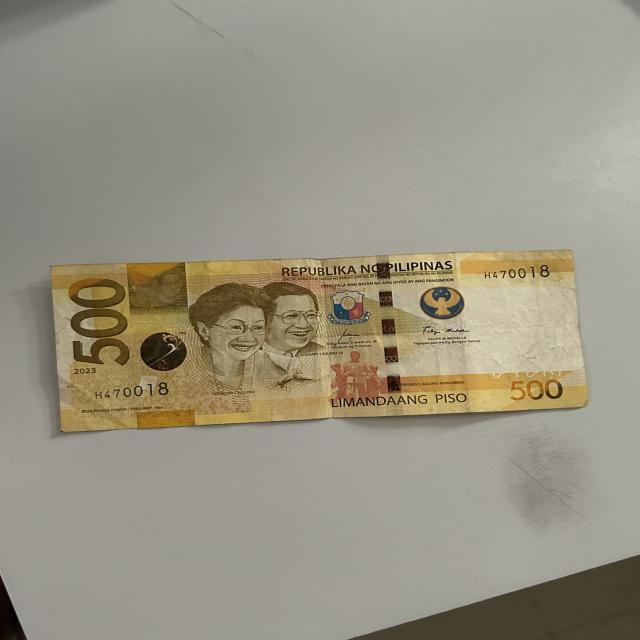concealed_value: (132, 271, 188, 316)
optically_variable_device: (138, 336, 190, 373)
see_through_mark: (472, 368, 570, 382)
